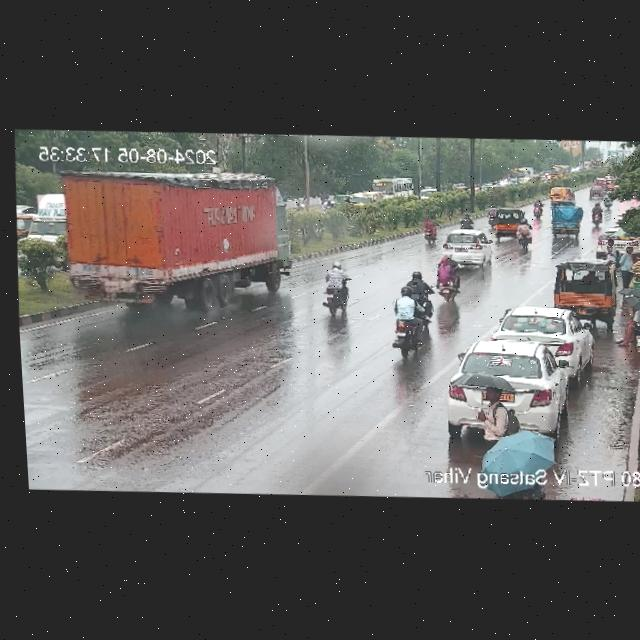bus: (369, 175, 413, 198), (545, 162, 569, 180), (511, 164, 534, 178)
car: (451, 339, 573, 418), (494, 304, 591, 365), (549, 257, 618, 318), (434, 229, 493, 267), (546, 199, 583, 237), (487, 205, 527, 236), (350, 189, 385, 210), (15, 213, 36, 242), (546, 185, 574, 205), (327, 193, 349, 210)
motorcycle: (385, 268, 443, 363), (308, 258, 357, 319), (435, 251, 460, 302), (514, 217, 532, 251), (422, 213, 438, 244), (587, 200, 604, 227), (531, 199, 544, 218), (458, 212, 474, 227), (603, 192, 613, 209)
person: (475, 380, 511, 448), (608, 241, 640, 287), (610, 301, 640, 350), (603, 239, 621, 283)
truck: (43, 160, 299, 311)
